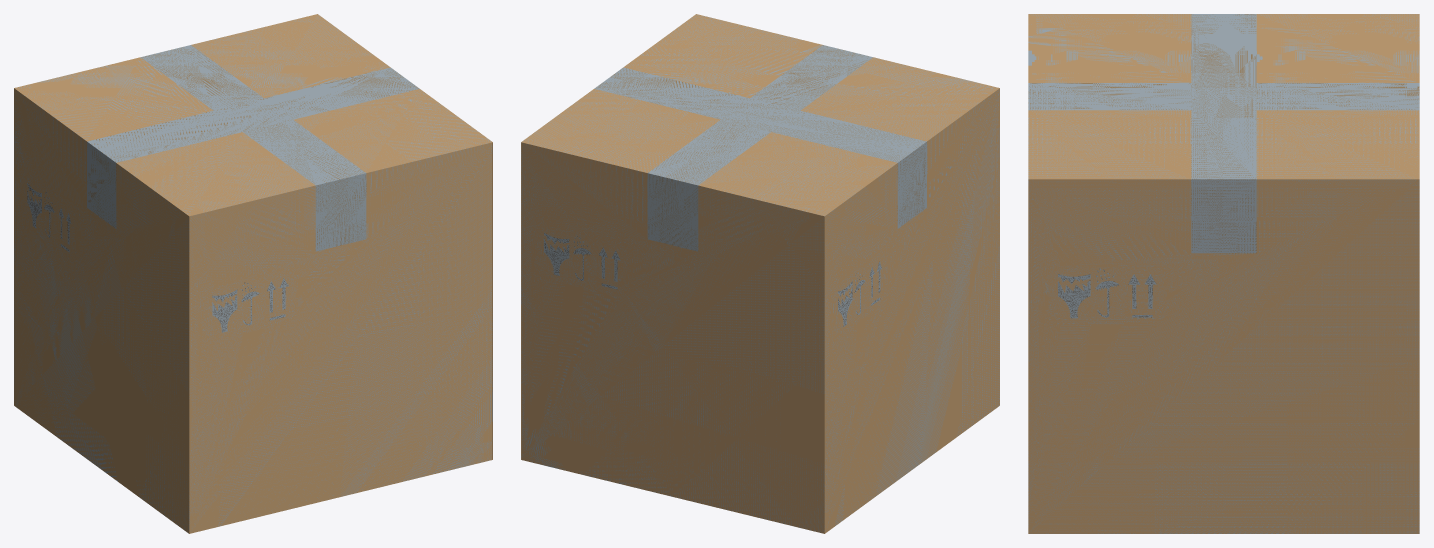
3 renders of one model, left to right at view 1: azimuth 30°, elevation 25°; view 2: azimuth 150°, elevation 25°; view 3: azimuth 270°, elevation 25°, orthographic. The views are drawn at different scales.
Visible parts, largest first — view 1: Box_Side_1_3, Box_Side_1_1, Group1; view 2: Box_Side_1_2, Box_Side_1_1, Group1; view 3: Box_Side_1_4, Group1.
Boxes of the visible parts, bbox=[...] form: Box_Side_1_3: bbox=[189, 142, 492, 533]; Box_Side_1_1: bbox=[14, 88, 189, 533]; Group1: bbox=[14, 14, 492, 216]; Box_Side_1_2: bbox=[521, 142, 824, 533]; Box_Side_1_1: bbox=[824, 88, 999, 533]; Group1: bbox=[521, 14, 999, 216]; Box_Side_1_4: bbox=[1028, 179, 1419, 533]; Group1: bbox=[1028, 14, 1419, 179].
Size of the model in its own units: 17.69 by 17.68 by 17.68.
